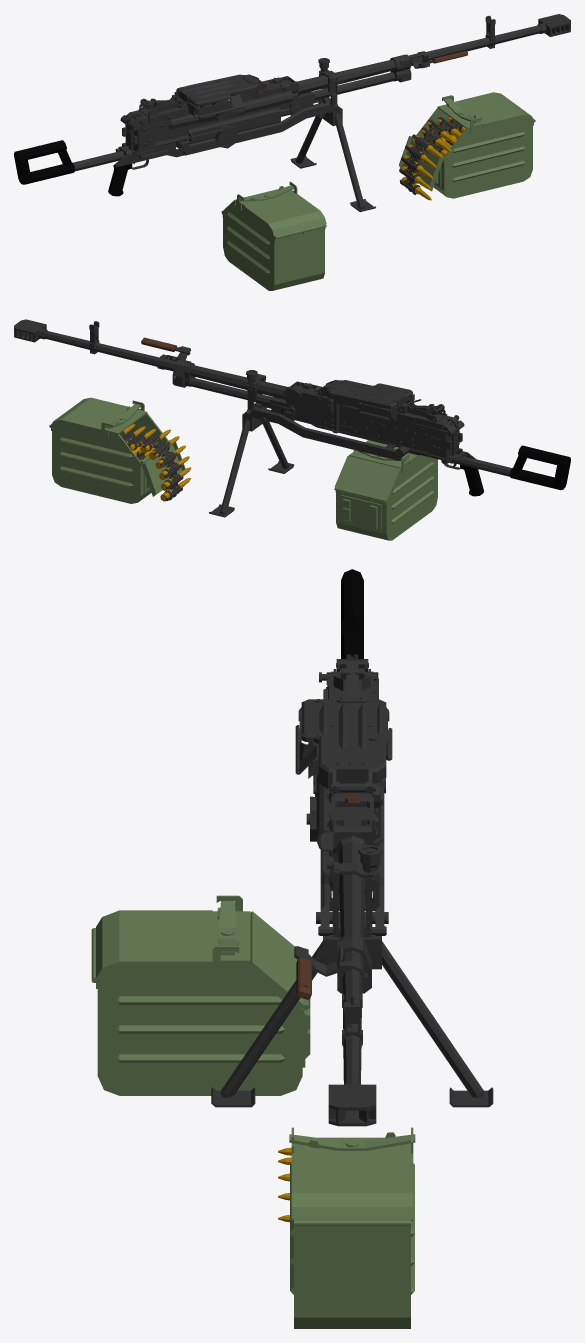
Rendered from kord.fbx.
3 renders of one model, top to bottom at view 1: azimuth 30°, elevation 25°; view 2: azimuth 150°, elevation 25°; view 3: azimuth 270°, elevation 25°, orthographic. The views are drawn at different scales.
Parts seen in each view (by area): view 1: gun, 6t7, box empty, box, lid, bullets, Циліндр.008, shutter, muzzle; view 2: gun, box, 6t7, box empty, Циліндр.005, lid, Циліндр.008, bullets, muzzle, shutter #2, 12.7x108 belt.004, 12.7x108 belt.003; view 3: box empty, box, 6t7, gun, lid, Циліндр.005, muzzle.
Part boxes in pixels (x1,y1,x2,y2): gun: (120,15,546,155); 6t7: (14,58,375,211); box empty: (221,181,326,290); box: (412,92,535,198); lid: (176,74,266,107); bullets: (426,116,465,155); Циліндр.008: (399,136,443,191); shutter: (192,94,244,118); muzzle: (538,14,570,36); gun: (38,321,464,464); box: (49,397,170,503); 6t7: (209,370,570,517); box empty: (334,440,437,540); Циліндр.005: (334,456,400,501); lid: (317,380,412,409); Циліндр.008: (141,442,185,496); bullets: (119,424,155,460); muzzle: (14,319,46,342); shutter #2: (358,403,397,420); 12.7x108 belt.004: (155,445,185,468); 12.7x108 belt.003: (149,436,179,459); box empty: (91,895,310,1095); box: (289,1127,415,1328); 6t7: (211,569,493,1107); gun: (294,654,385,1084); lid: (301,696,386,793); Циліндр.005: (250,911,304,1012); muzzle: (328,1084,376,1126).
Bounding box in the file's own units: 1741 × 495 × 549.
